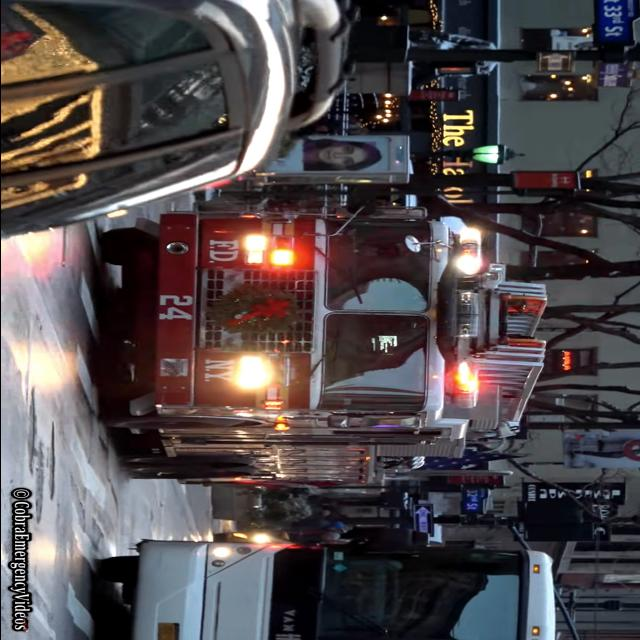emergency-vehicles: (76, 192, 564, 501)
